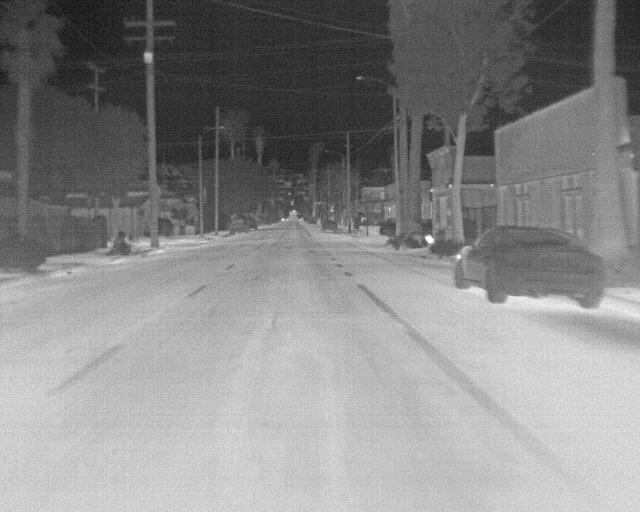car: (452, 224, 606, 309), (227, 219, 245, 234), (320, 220, 339, 234), (246, 219, 256, 231)
